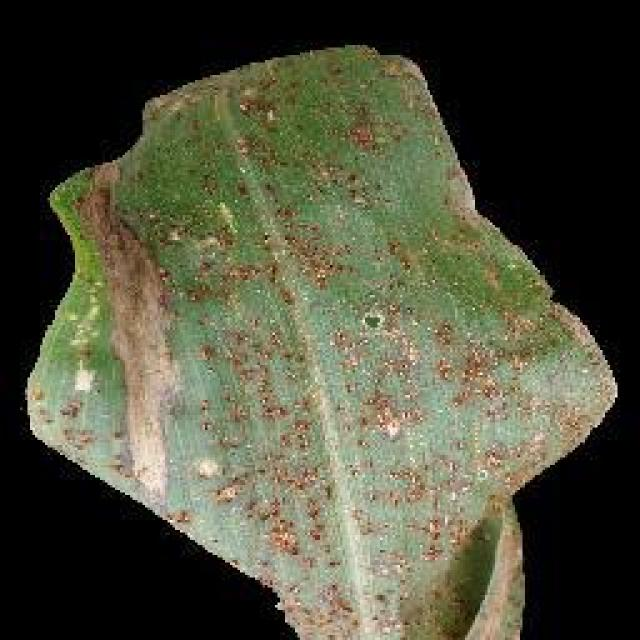Corn Common Rust: (132, 158, 543, 574)
